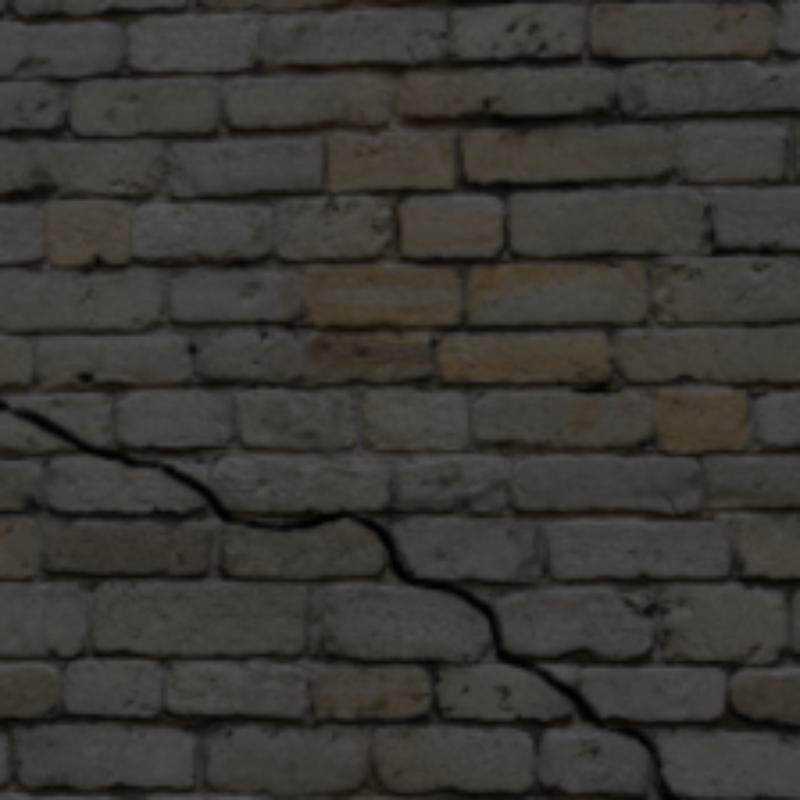pothole: (0, 400, 675, 796)
